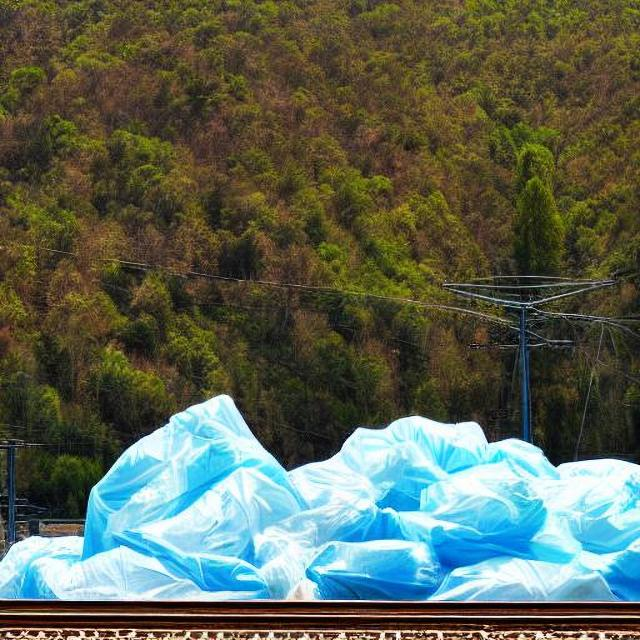plastic bag: (2, 403, 640, 611)
